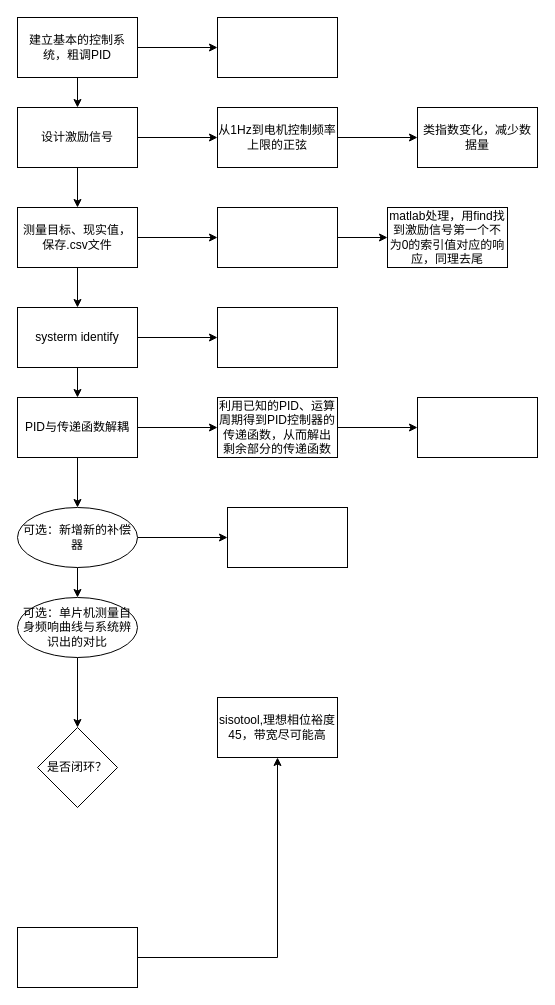
Image size: 555x1005. Some labels were removed from this diagram. Each missing label, with the centre of its shape:
ffilter design生成巴赫沃斯低通滤波器: [277,47]
serialplot or j-scope: [277,237]
利用sisotool生成新的补偿器: [287,537]
导入解耦后的传递函数，加入新的PID控制器: [77,957]
得到系统传递函数: [277,337]
解得pid传递函数之后可尝试用sisotool中Edit Architecture自动生成系统框图: [477,427]
